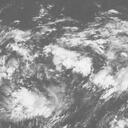cyclone: (39, 37, 109, 100)
